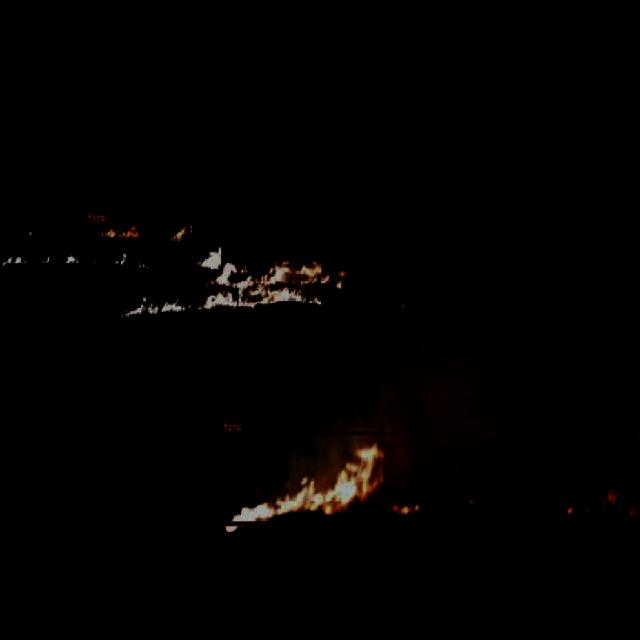fire: (222, 430, 640, 524), (86, 222, 348, 328)
